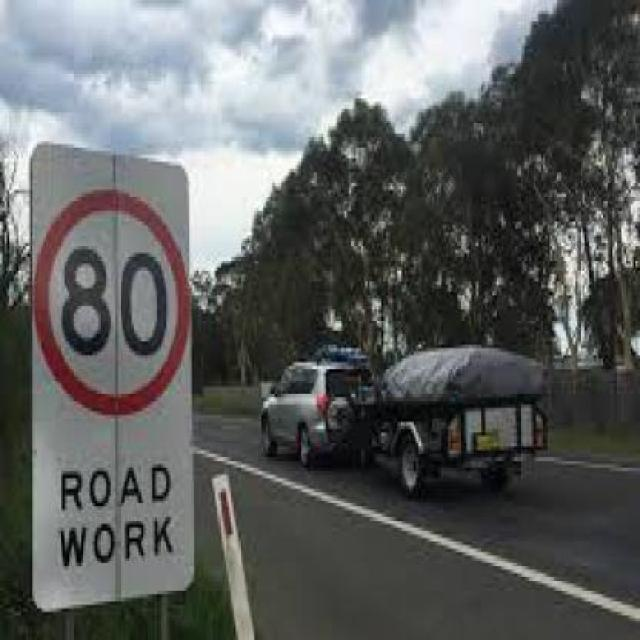forb_speed_over_80: (33, 215, 190, 412)
